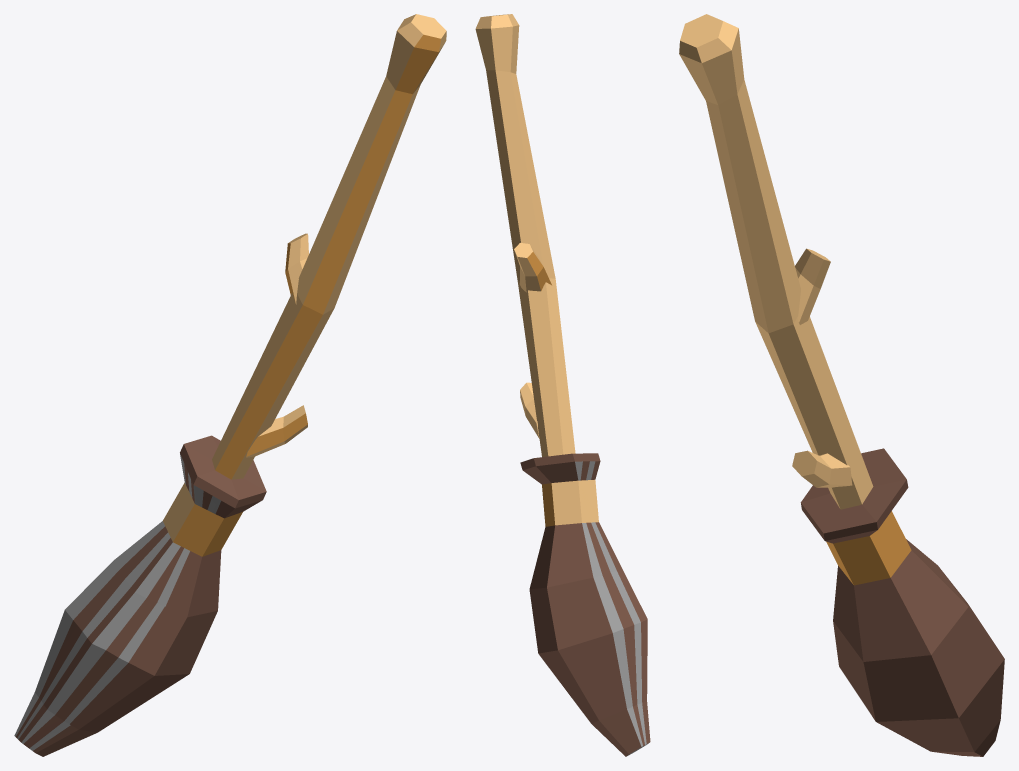
The model's file is Broom.fbx.
3 views of the same model, side by side, from view 1: azimuth 30°, elevation 25°; view 2: azimuth 150°, elevation 25°; view 3: azimuth 270°, elevation 25° (orthographic). The views are drawn at different scales.
Parts seen in each view (by area): view 1: broom; view 2: broom; view 3: broom.
Boxes of the visible parts, x1,y1,x2,y2 form: broom: (14,14,446,756); broom: (475,14,650,756); broom: (679,14,1004,756).
Size of the model in its own units: 0.1766 by 0.4022 by 0.1329.
